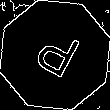P_SW: (27, 24, 83, 86)
